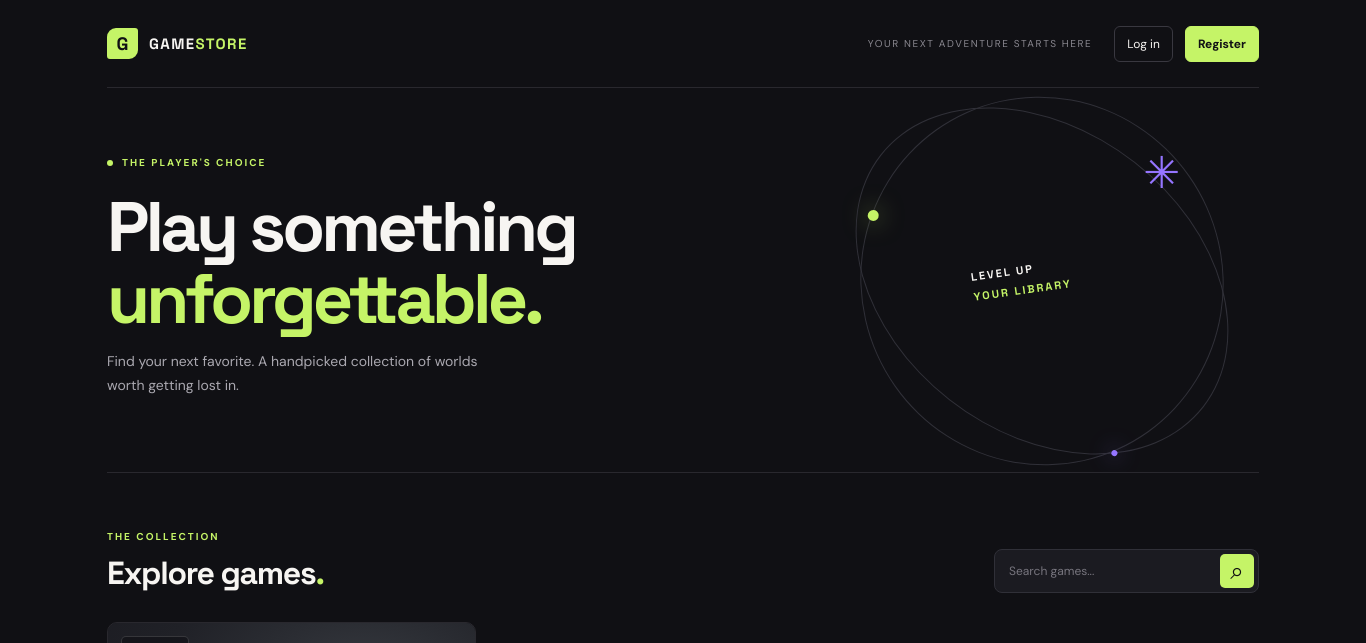
GameStore catalog › logs in, shows the member, and logs out without reloading
Click the button "Log in" at (1144, 44), box [1114,26,1173,62]
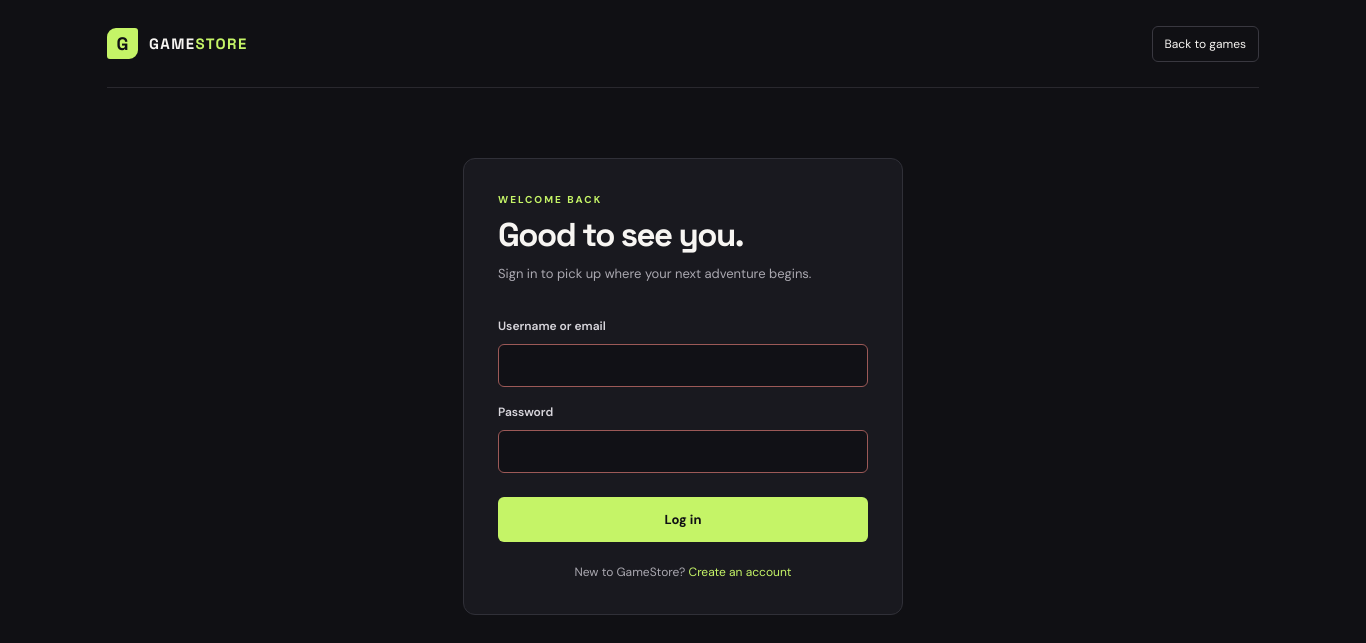
Type "playerone@example.com" into the field labelled "Username or email" at (683, 365), box [498,344,868,387]
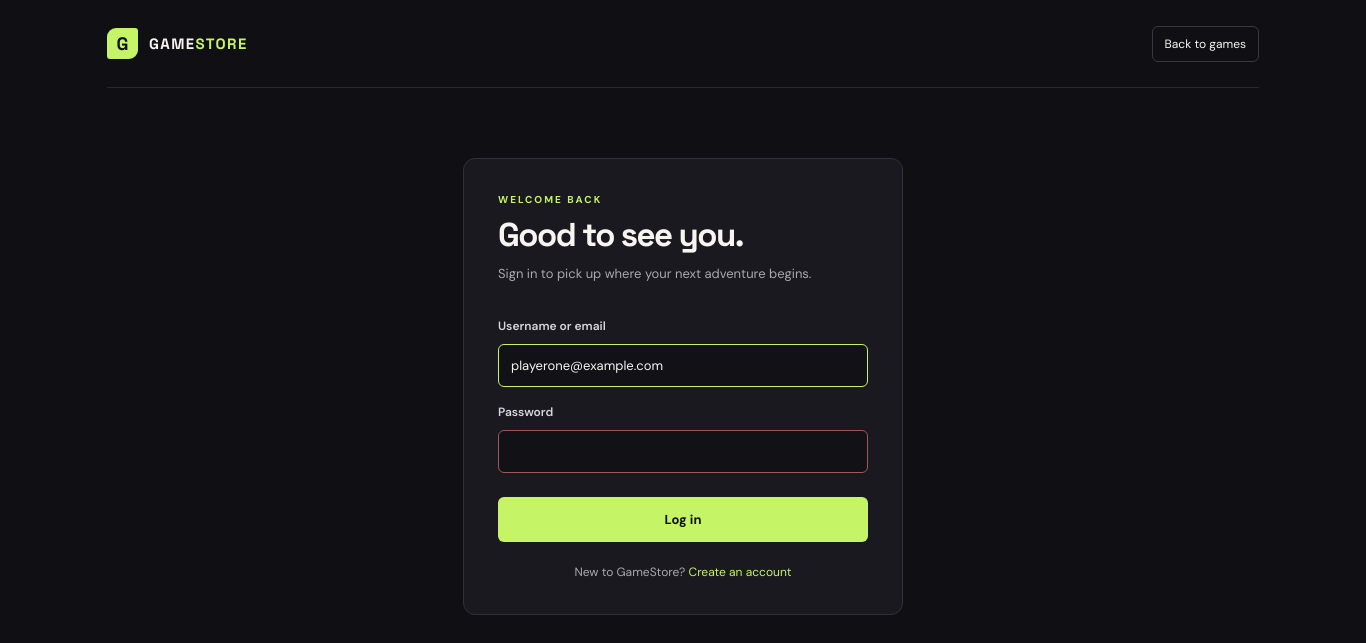
Type "secure-password-123" into the password field labelled "Password" at (683, 451), box [498,430,868,473]
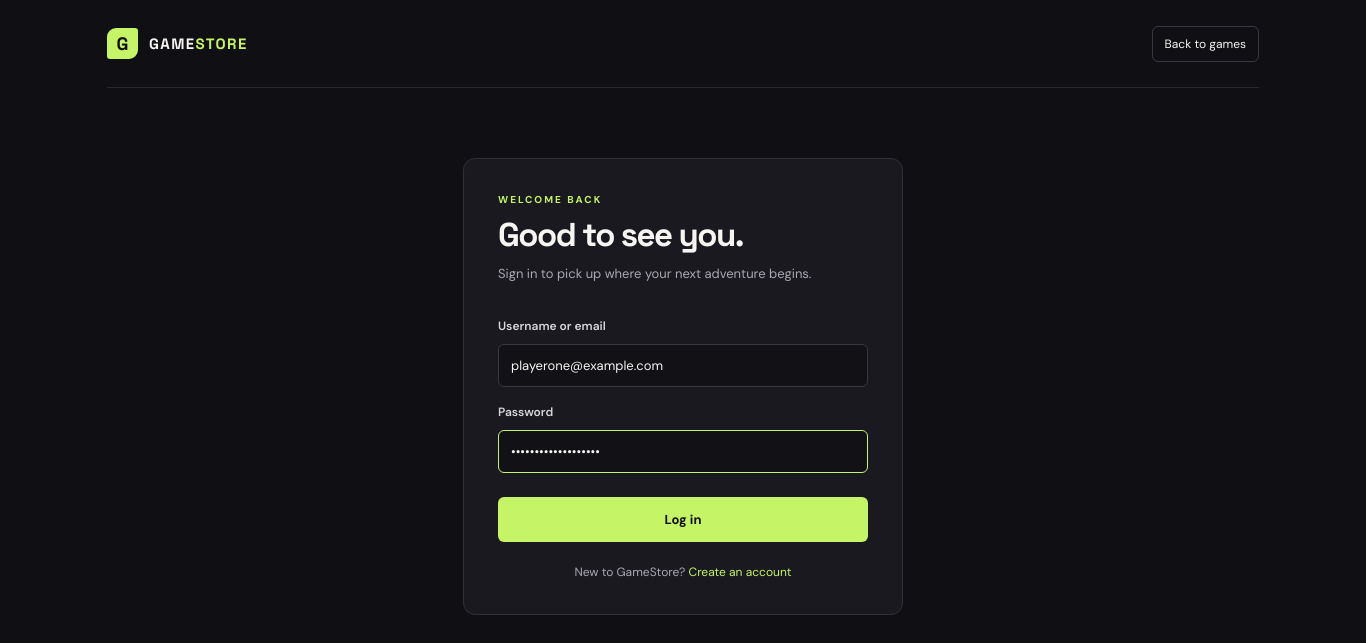
Click the button "Log in" at (683, 519), box [498,497,868,542]
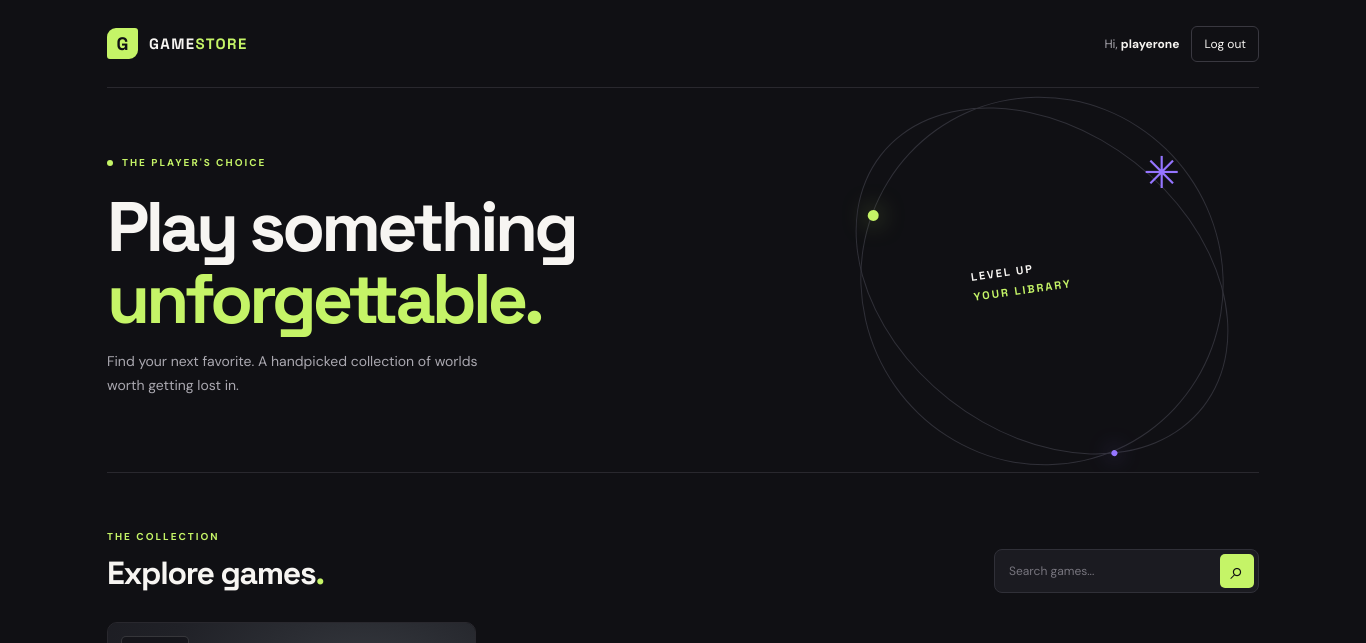
Result: the text "playerone" is shown at [1121,36,1180,52]
Click the button "Log out" at (1225, 44), box [1192,26,1259,62]
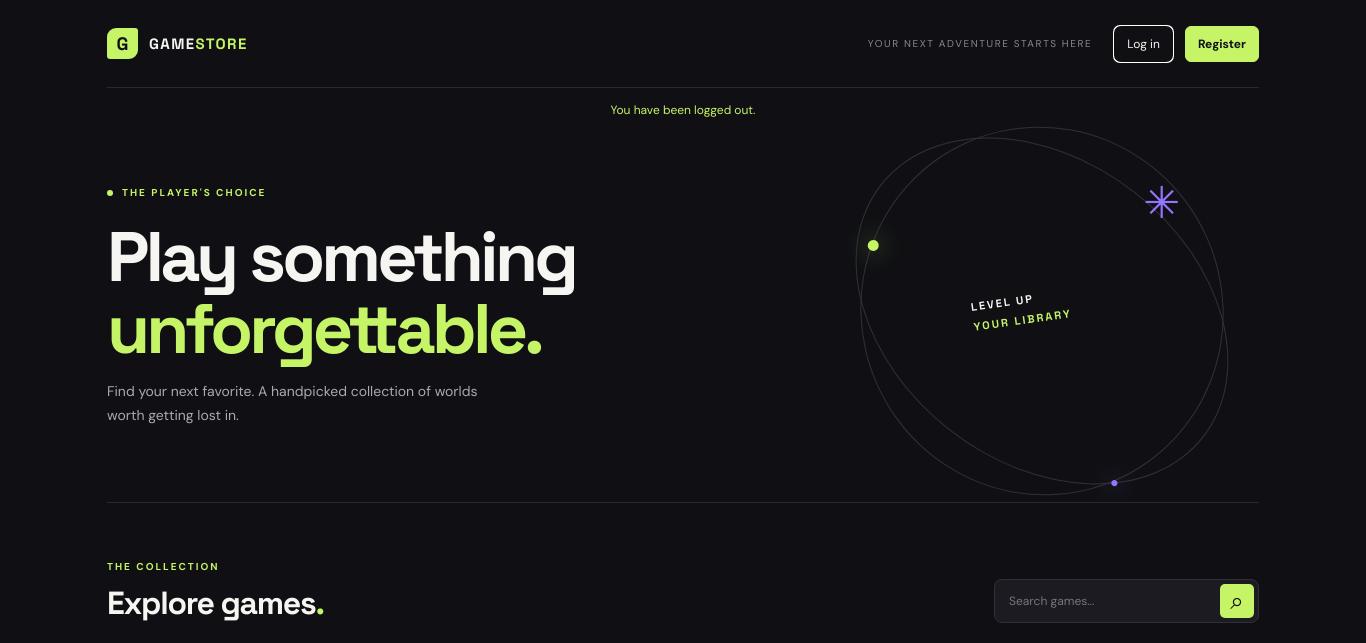
Result: the button "Register" is shown at [1185,26,1259,62]
Result: the message shows "logged out" at [611,102,756,118]
